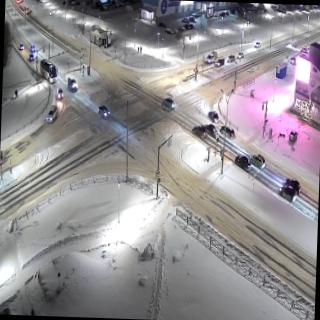large-vehicle: (40, 58, 58, 86)
small-vehicle: (284, 177, 302, 196), (280, 184, 296, 205), (234, 154, 252, 172), (192, 124, 208, 141), (204, 124, 220, 141), (220, 125, 236, 141), (47, 104, 58, 126), (251, 154, 266, 170), (162, 97, 176, 113), (99, 104, 111, 120), (208, 112, 219, 125), (56, 86, 64, 102), (216, 58, 225, 68), (227, 54, 236, 64), (181, 15, 190, 24), (166, 27, 174, 37), (29, 52, 35, 64), (254, 41, 262, 50), (237, 52, 244, 62), (30, 44, 37, 53), (188, 15, 195, 22), (20, 42, 24, 52)
